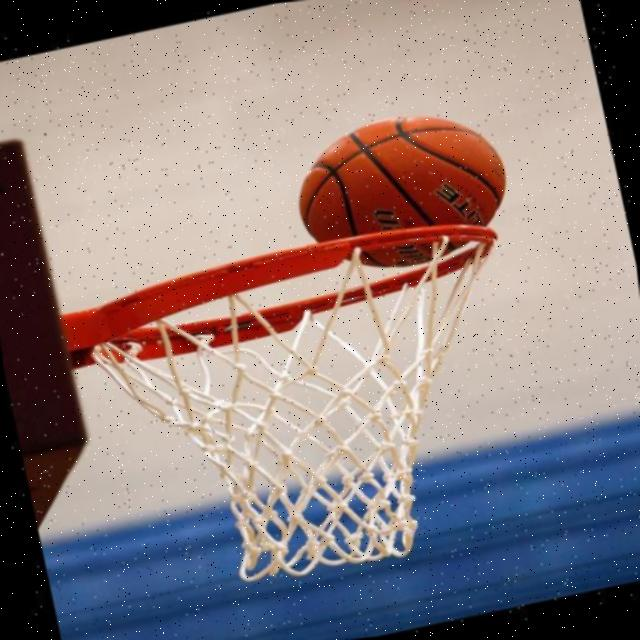ball: (283, 95, 522, 287)
hoop: (84, 217, 503, 343)
